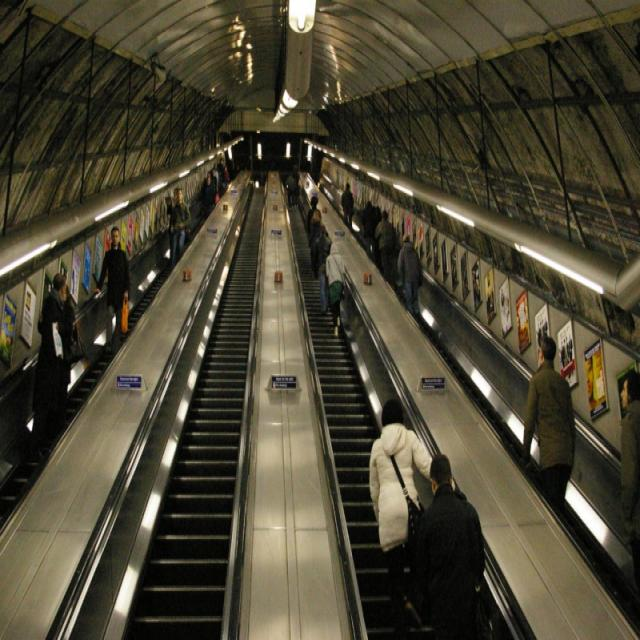body: (368, 396, 440, 634), (413, 452, 486, 640), (521, 333, 577, 519), (92, 225, 131, 354), (619, 368, 640, 594), (37, 272, 68, 368), (396, 230, 423, 329), (59, 284, 76, 428), (324, 239, 346, 338), (170, 186, 192, 270), (313, 222, 332, 316), (357, 197, 379, 274), (376, 209, 395, 283), (306, 194, 322, 273), (165, 186, 178, 264), (340, 181, 354, 241), (202, 169, 215, 220), (558, 332, 574, 368), (202, 174, 214, 221), (515, 306, 530, 342), (498, 285, 511, 326), (584, 352, 594, 404), (285, 168, 295, 210), (291, 164, 300, 208), (448, 247, 458, 285), (216, 156, 225, 198), (535, 314, 548, 342), (309, 153, 320, 186), (484, 276, 494, 312), (460, 253, 468, 294), (471, 267, 480, 302), (1, 324, 12, 352), (431, 237, 439, 269), (440, 242, 447, 274), (213, 161, 219, 193), (24, 287, 32, 310), (222, 164, 228, 192), (104, 230, 111, 252), (400, 208, 405, 238)
